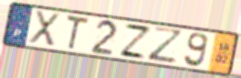2: (89, 19, 119, 58)
9: (183, 32, 210, 69)
T: (64, 13, 91, 53)
X: (26, 9, 62, 49)
Z: (146, 25, 186, 65), (117, 22, 154, 61)
